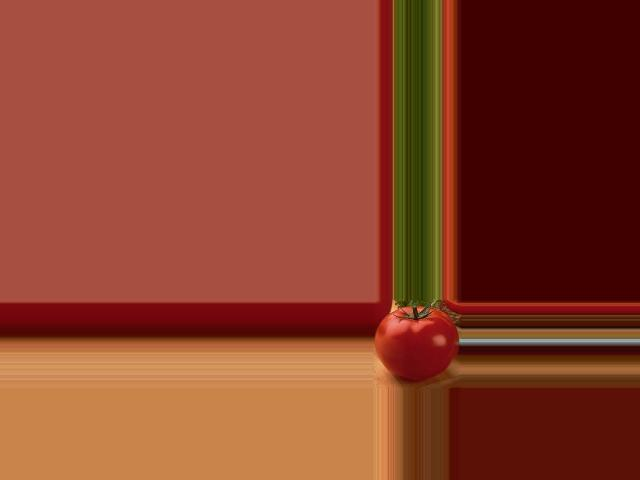tomato: (374, 306, 458, 379)
